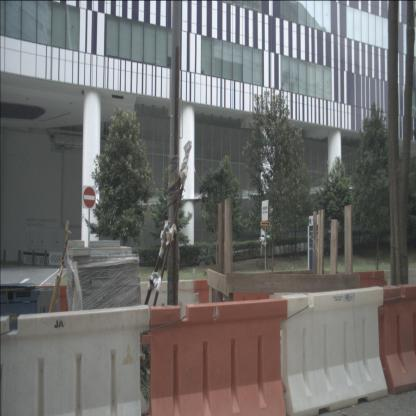movable_object-barrier: (140, 296, 288, 416), (0, 304, 151, 416), (277, 285, 389, 416), (192, 277, 274, 358), (129, 279, 199, 358), (326, 270, 387, 346), (375, 283, 416, 396)
